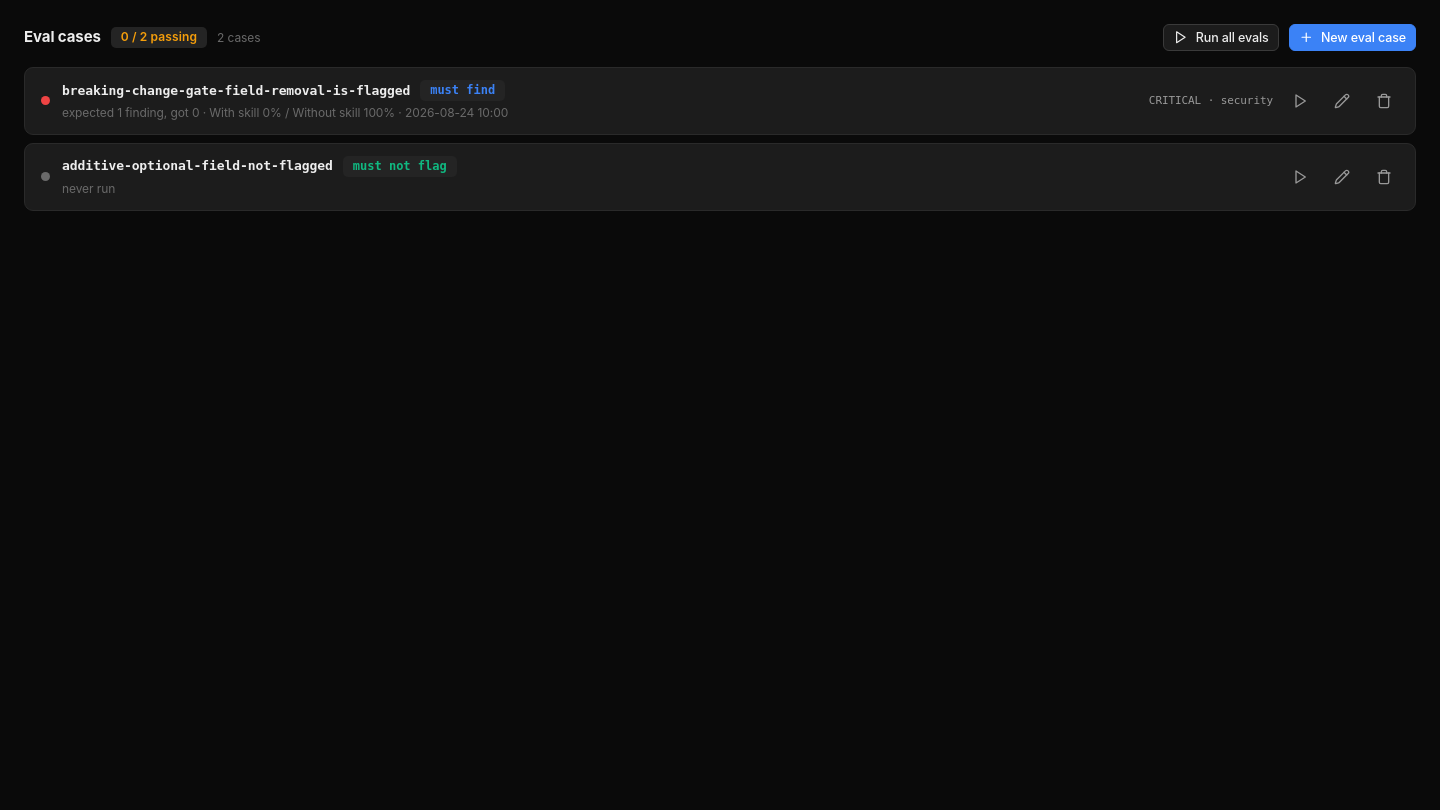
it: Skill EvalsTab › opens the shared case editor for a new skill-owned case
Click the button "New eval case" at (1352, 38), box x1=1288 y1=24 x2=1416 y2=51
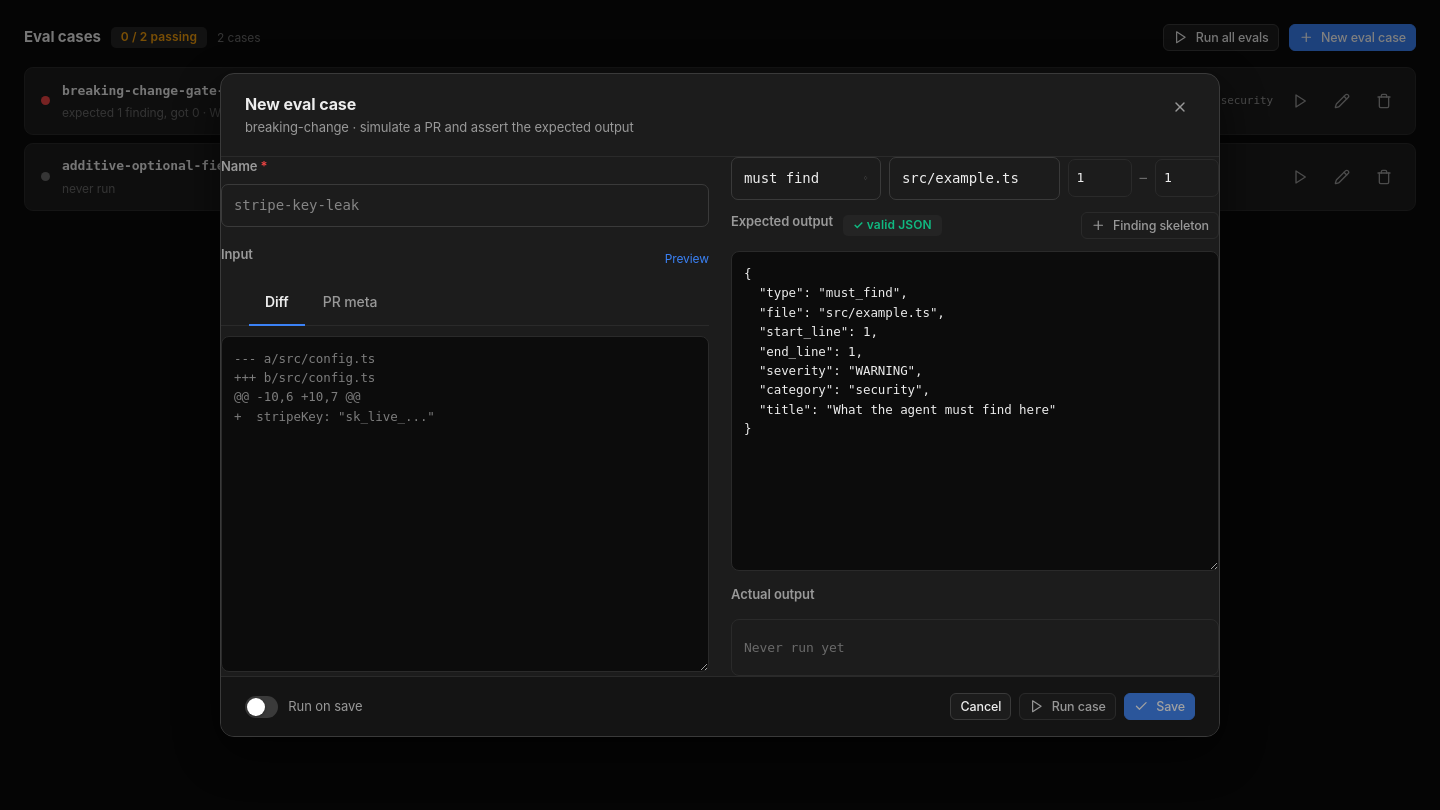
Expected: the button "Finding skeleton" is shown, x1=1080 y1=212 x2=1219 y2=239
